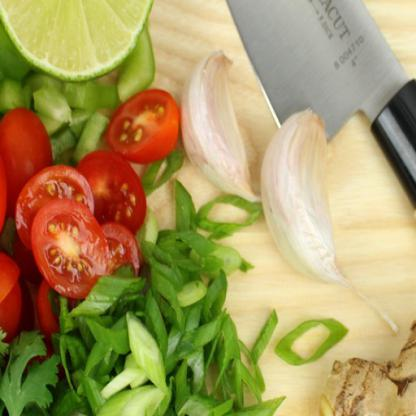knife: (179, 0, 415, 415)
